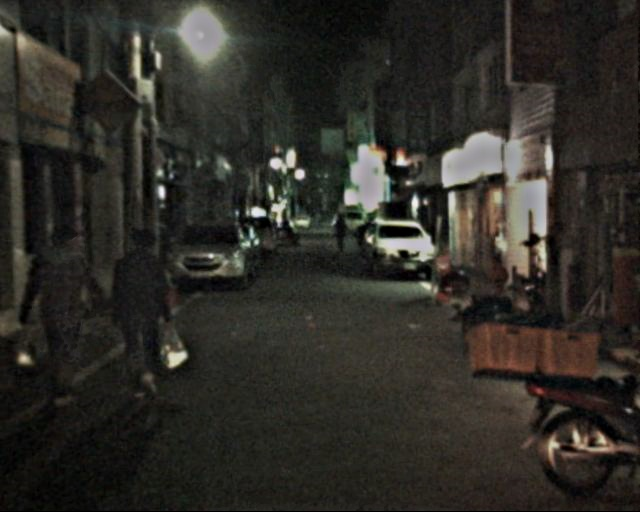person: (24, 219, 103, 399), (103, 225, 181, 404), (329, 212, 348, 251)
